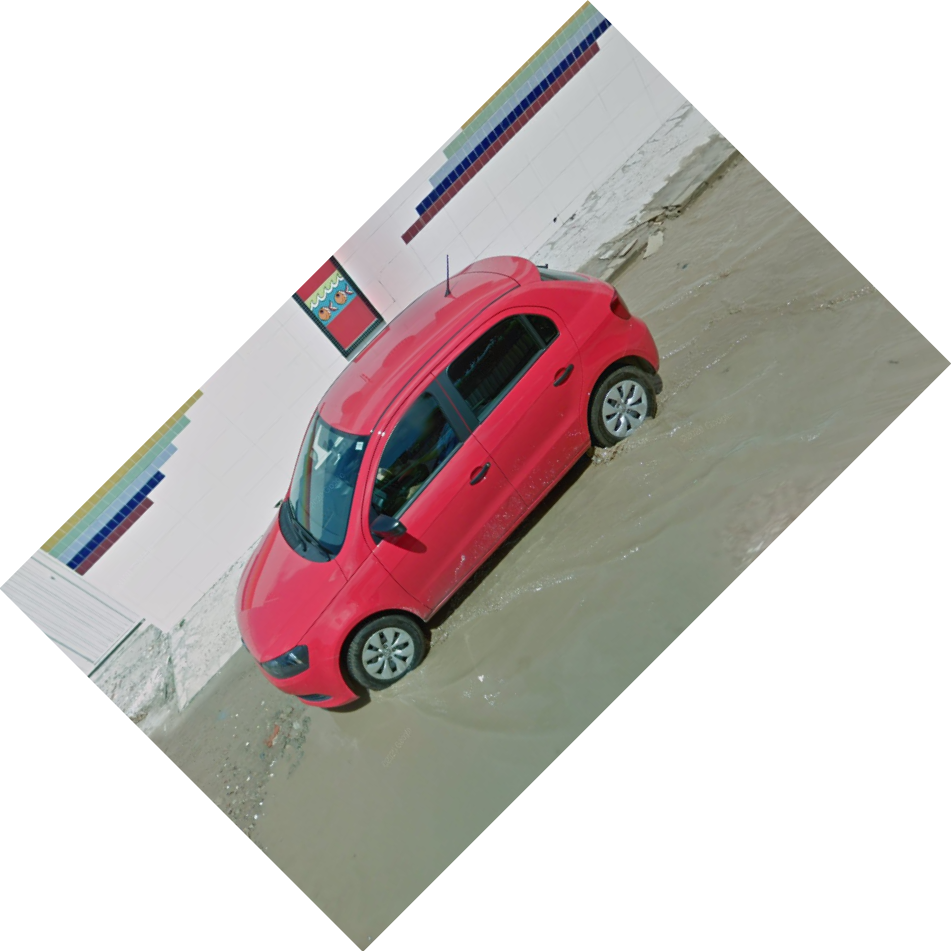car: (237, 250, 663, 715)
